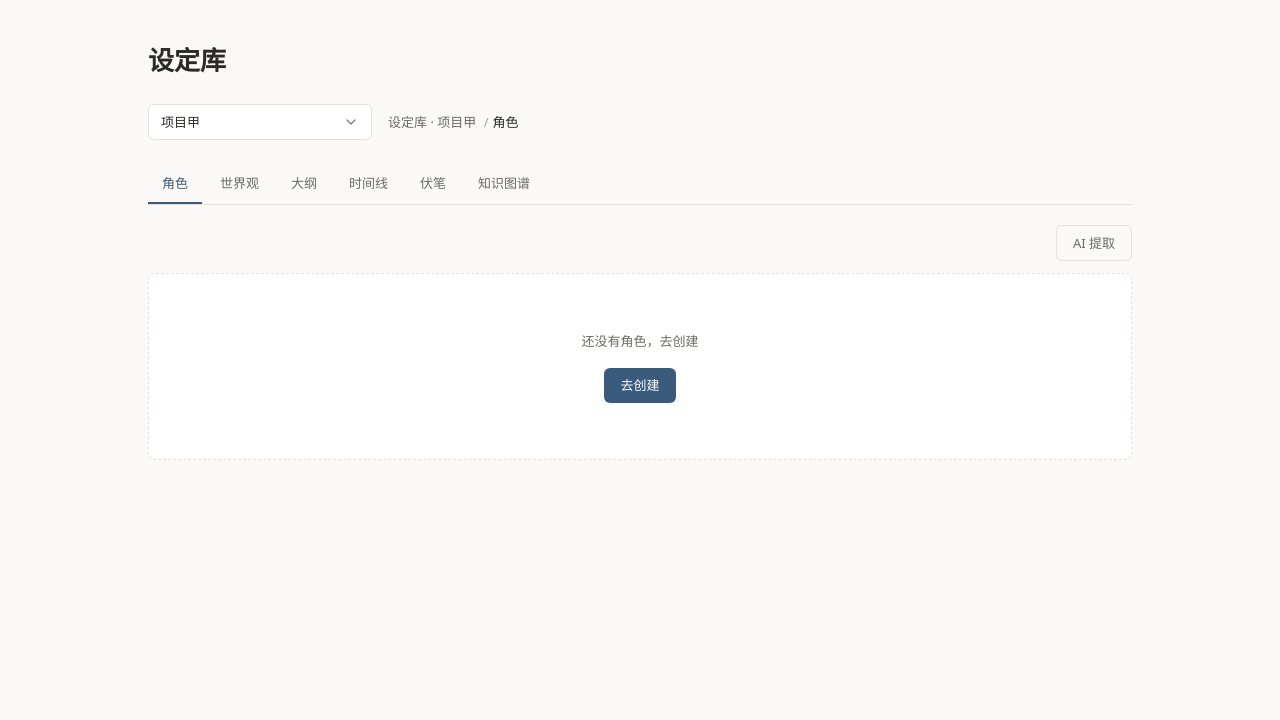
Test: F48 知识图谱 tab（spec §5.4） › 切到「知识图谱」tab：渲染图谱画布容器 + 触发 GET /knowledge-graph（nodes+edges 种子）
Click the tab "知识图谱".
click(504, 184)  # box [464,164,544,204]
(page scrolled)
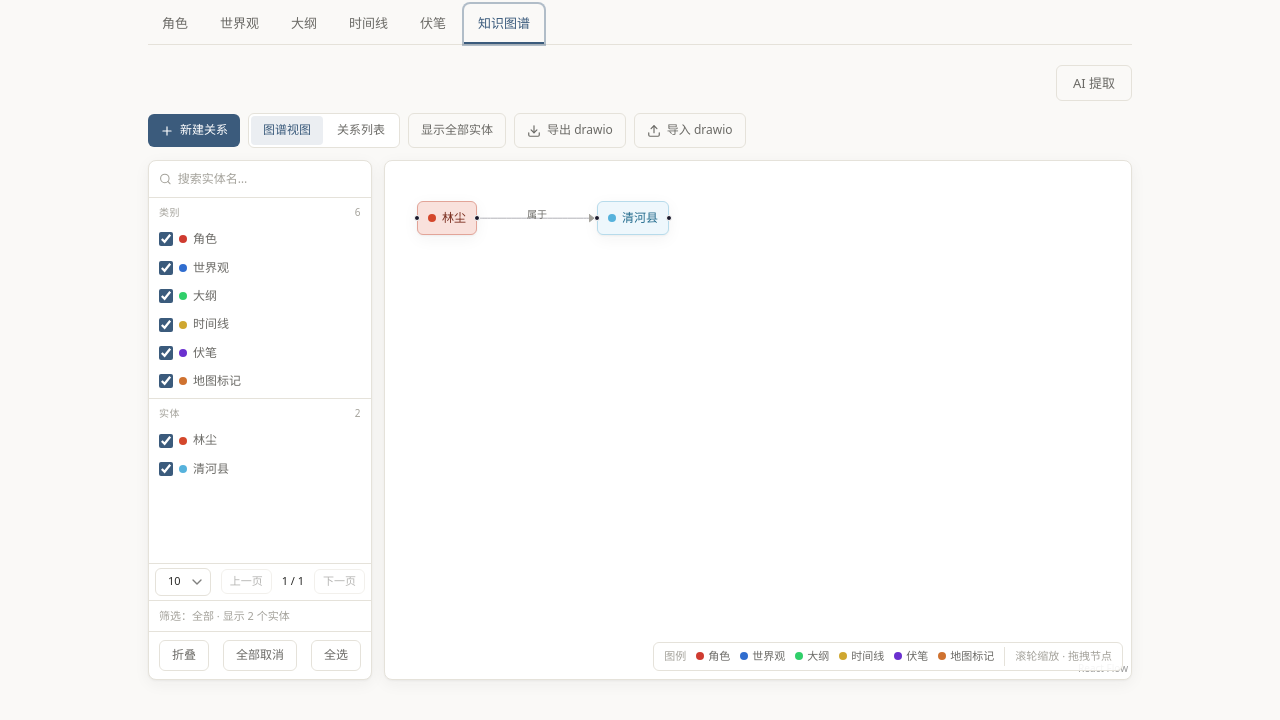
Now the element with test id "library-kg-canvas" is shown, box [384,160,1132,680]
Now the element with test id "library-kg-canvas" shows "林尘", box [442,209,466,226]
